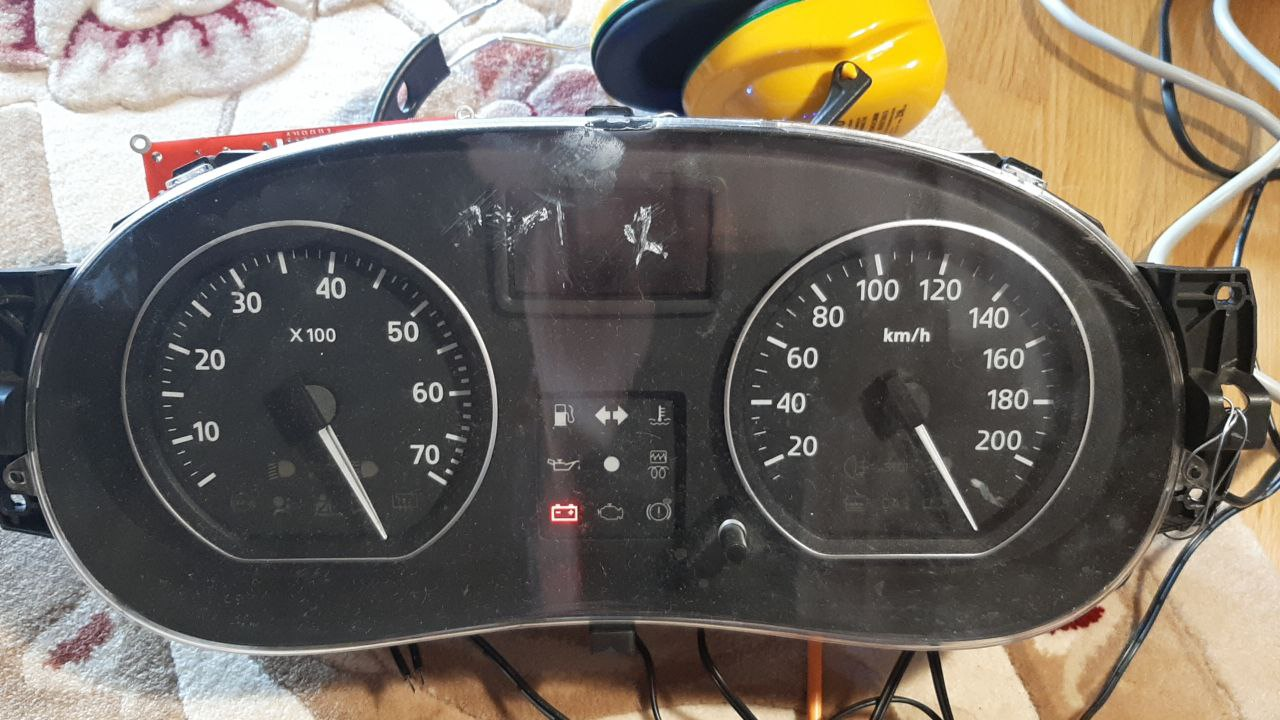accumulator: (548, 500, 582, 527)
